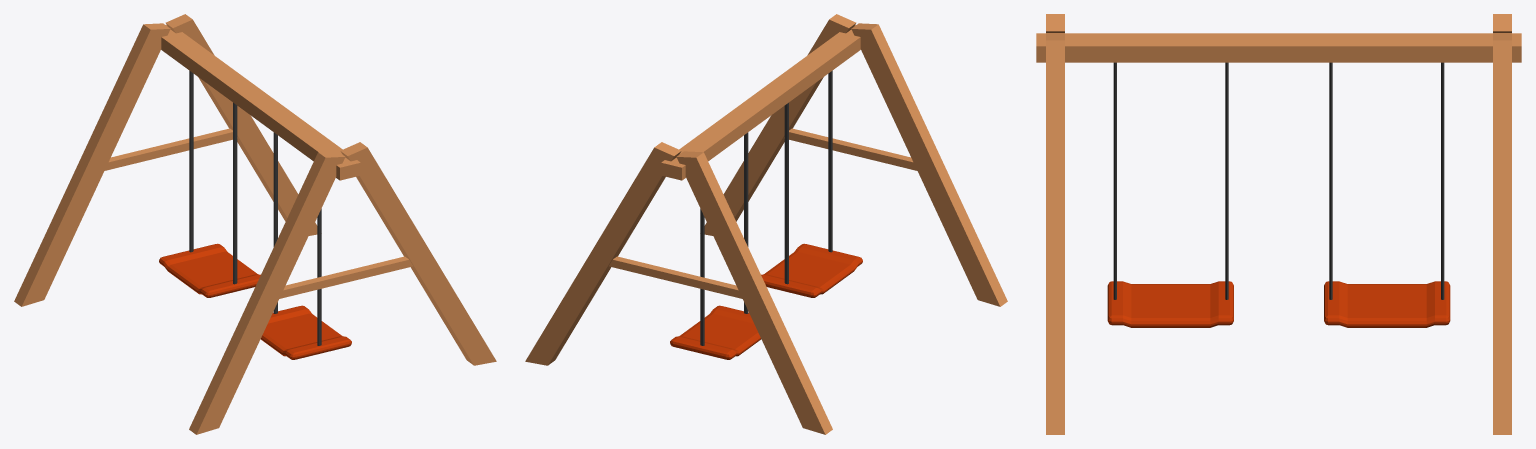
File: swing.glb
3 views of the same model, side by side, from view 1: azimuth 30°, elevation 25°; view 2: azimuth 150°, elevation 25°; view 3: azimuth 270°, elevation 25° (orthographic). The views are drawn at different scales.
Parts seen in each view (by area): view 1: Swing; view 2: Swing; view 3: Swing.
Part boxes in pixels (box(x1,y1,x2,y2)): Swing: box(14, 14, 496, 434); Swing: box(525, 14, 1007, 434); Swing: box(1036, 14, 1521, 434).
Bounding box in the file's own units: 3.2 × 2.5 × 3.5.
Materials: 1 (1 with a texture image).
